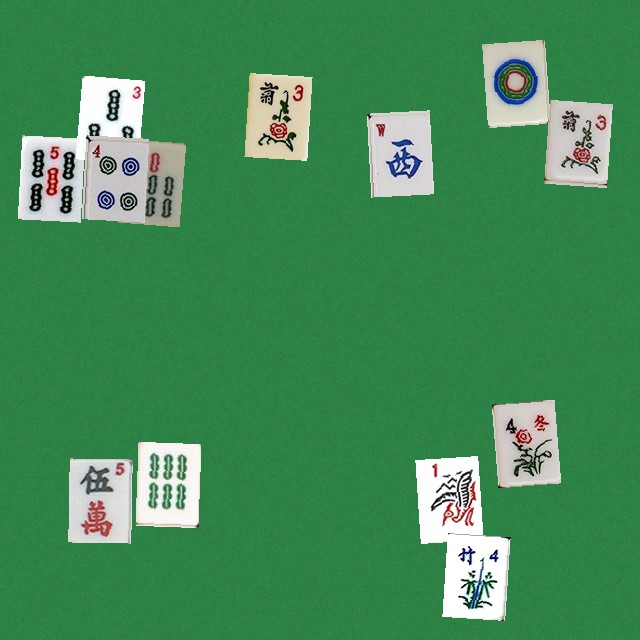tile: (17, 135, 80, 219), (482, 39, 545, 123), (116, 138, 179, 222), (544, 99, 607, 183), (491, 399, 554, 483), (75, 75, 138, 159), (68, 458, 131, 542), (135, 441, 198, 525), (81, 135, 144, 219), (415, 456, 478, 540), (244, 73, 307, 157), (442, 533, 505, 617), (366, 110, 429, 194)
